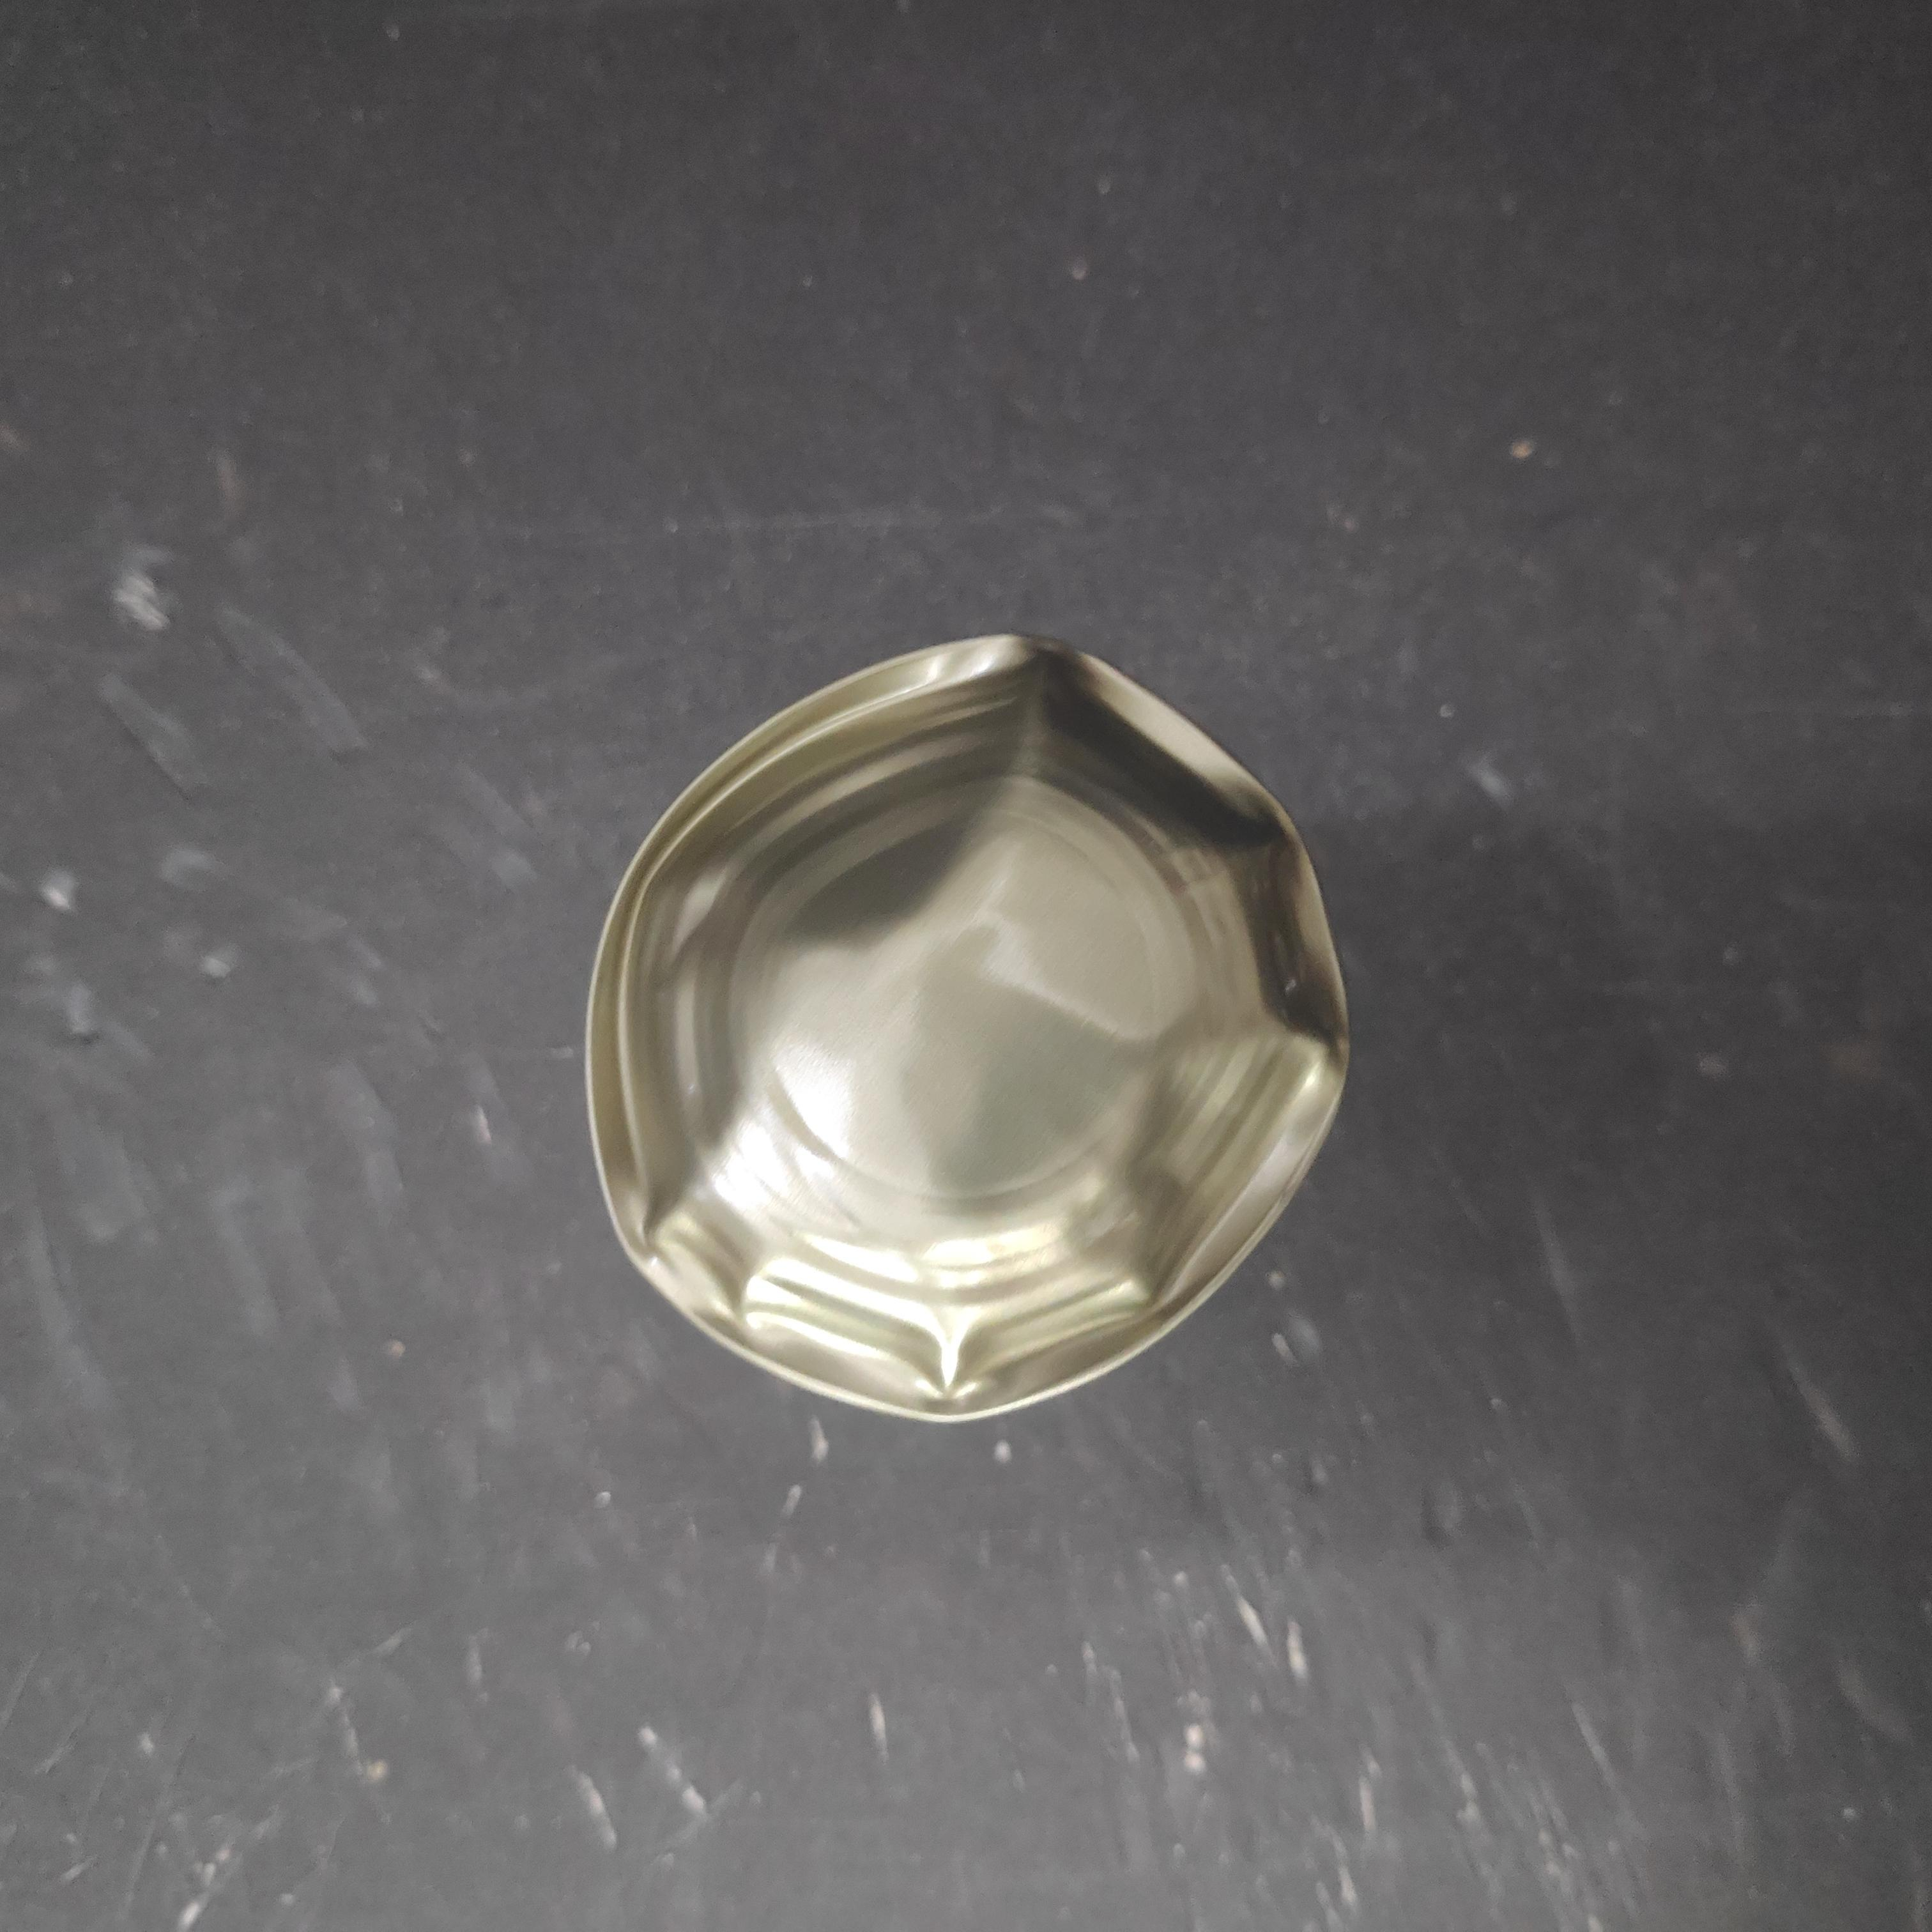Critical Defect: (502, 570, 1311, 1366)
